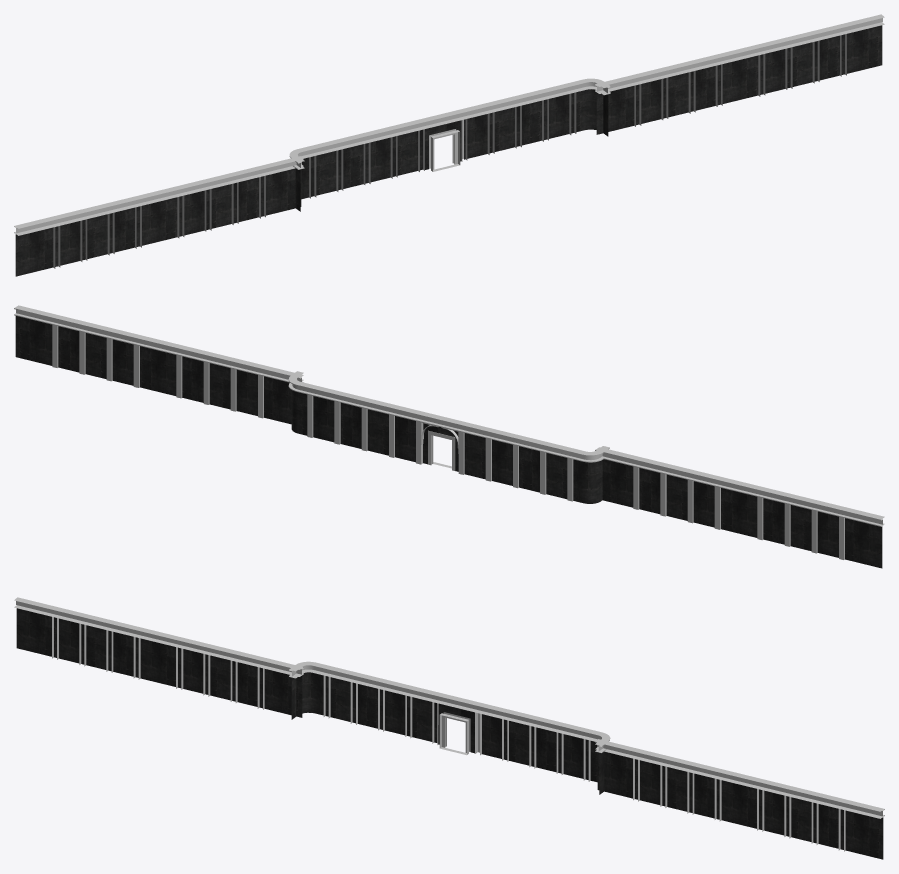
The model's file is tesla_modules_core_wall_start_door.dae.
3 renders of one model, top to bottom at view 1: azimuth 30°, elevation 25°; view 2: azimuth 150°, elevation 25°; view 3: azimuth 330°, elevation 25°, orthographic.
Visible parts, largest first — view 1: polySurface146, polySurface145; view 2: polySurface146, polySurface145; view 3: polySurface146, polySurface145.
Part boxes in pixels (left/top/right/bottom): polySurface146: left=15, top=25, right=882, bottom=276; polySurface145: left=14, top=14, right=884, bottom=268; polySurface146: left=15, top=316, right=882, bottom=568; polySurface145: left=14, top=305, right=884, bottom=559; polySurface146: left=16, top=608, right=883, bottom=859; polySurface145: left=14, top=597, right=884, bottom=851.
Size of the model in its own units: 128 by 7 by 3.61.
